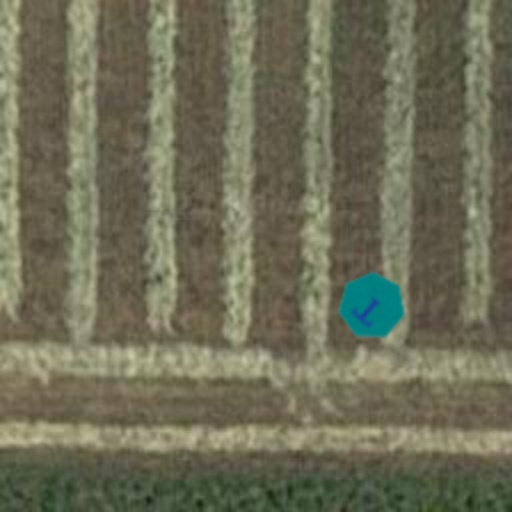heptagon: (322, 256, 422, 356)
